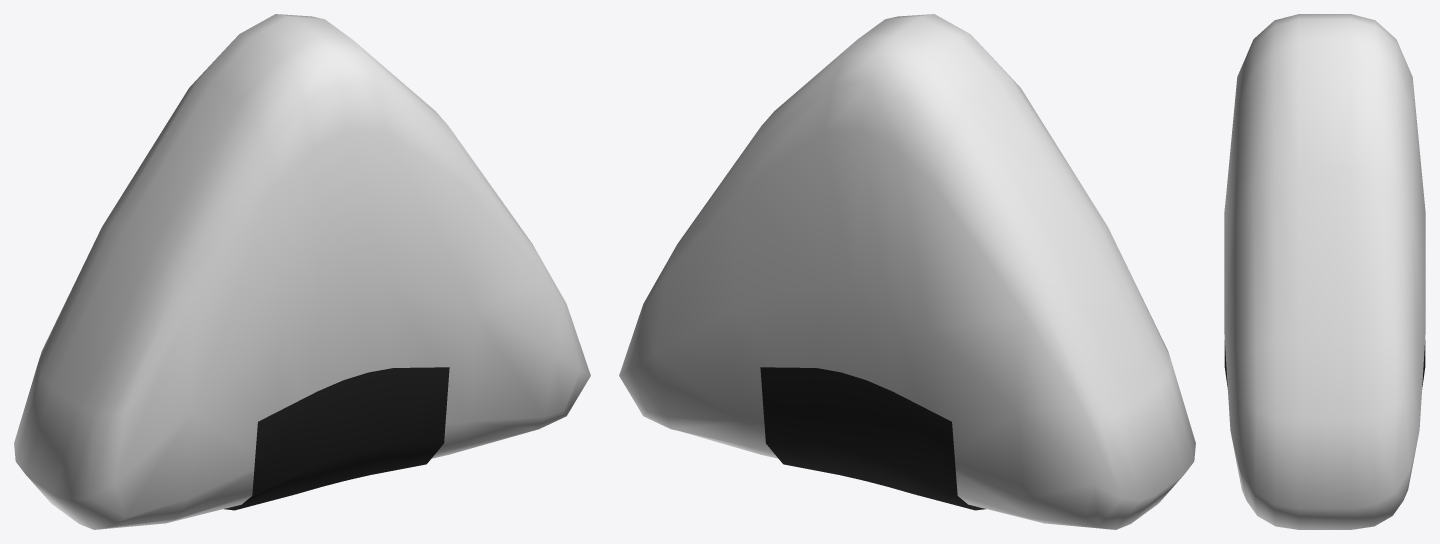
The model's file is onigiri.glb.
3 views of the same model, side by side, from view 1: azimuth 30°, elevation 25°; view 2: azimuth 150°, elevation 25°; view 3: azimuth 270°, elevation 25° (orthographic). The views are drawn at different scales.
Visible parts, largest first — view 1: Food_Onigiri; view 2: Food_Onigiri; view 3: Food_Onigiri.
Boxes of the visible parts, bbox=[...] form: Food_Onigiri: bbox=[14, 14, 590, 529]; Food_Onigiri: bbox=[619, 14, 1195, 529]; Food_Onigiri: bbox=[1224, 14, 1425, 529].
Bounding box in the file's own units: 0.5856 × 0.4773 × 0.2075.
1 material, 1 textured.
